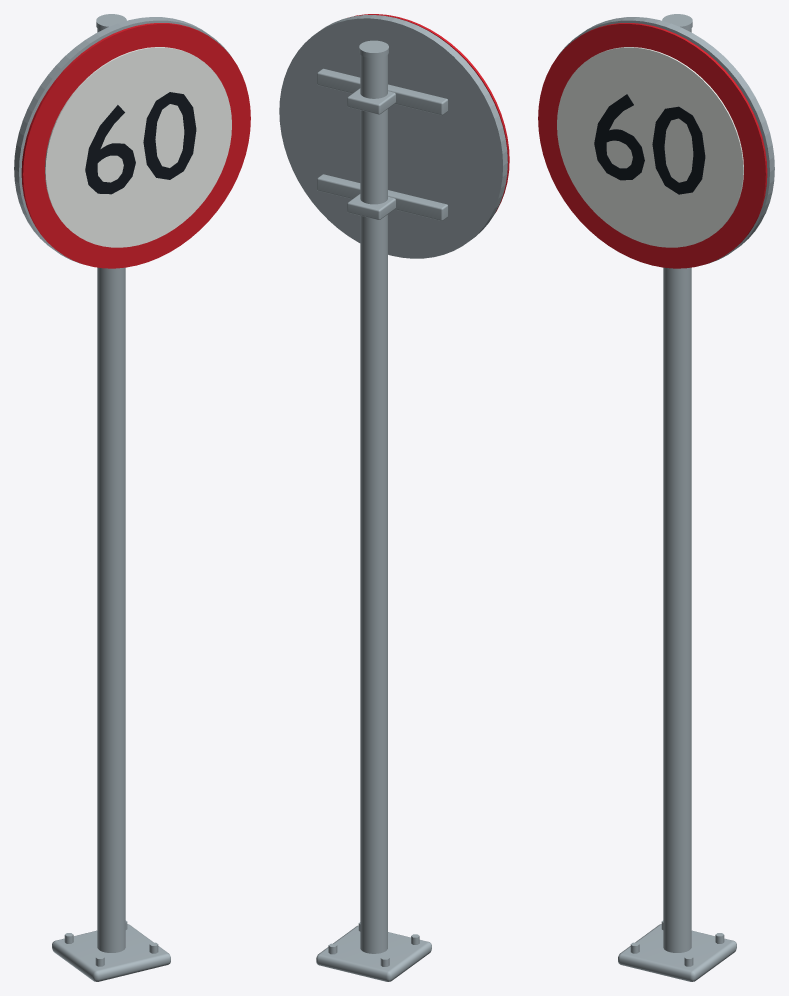
Rendered from DS_Sign_Speed60.glb.
3 views of the same model, side by side, from view 1: azimuth 30°, elevation 25°; view 2: azimuth 150°, elevation 25°; view 3: azimuth 330°, elevation 25° (orthographic). The views are drawn at different scales.
Parts seen in each view (by area): view 1: Face_Field.005, Post.005, Face_Border.005, Legend_60, BasePlate.005, Plate_Back.005; view 2: Plate_Back.005, Post.005, BasePlate.005, RearRail.011, RearRail.010, PostClamp.011, PostClamp.010, Face_Border.005; view 3: Face_Field.005, Post.005, Face_Border.005, Legend_60, BasePlate.005, Plate_Back.005.
Part boxes in pixels (x1,y1,x2,y2): Face_Field.005: (45,47,231,247); Post.005: (97,28,125,952); Face_Border.005: (21,23,250,268); Legend_60: (85,92,196,194); BasePlate.005: (52,924,170,981); Plate_Back.005: (14,17,230,263); Plate_Back.005: (279,15,507,258); Post.005: (360,55,387,953); BasePlate.005: (316,925,431,981); RearRail.011: (317,68,448,115); RearRail.010: (317,174,448,220); PostClamp.011: (347,88,395,114); PostClamp.010: (347,194,395,219); Face_Border.005: (354,14,509,212); Face_Field.005: (557,47,743,247); Post.005: (663,28,691,952); Face_Border.005: (538,23,767,268); Legend_60: (594,94,705,194); BasePlate.005: (618,924,736,981); Plate_Back.005: (558,17,774,263).
Size of the model in its own units: 0.71 by 2.81 by 0.2727.
